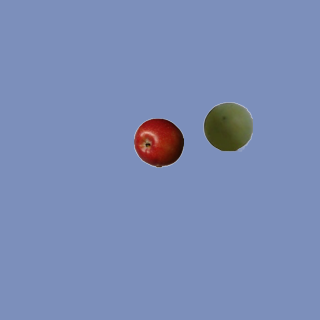Apple Braeburn: (133, 117, 183, 167)
Grape White 4: (202, 101, 252, 151)
